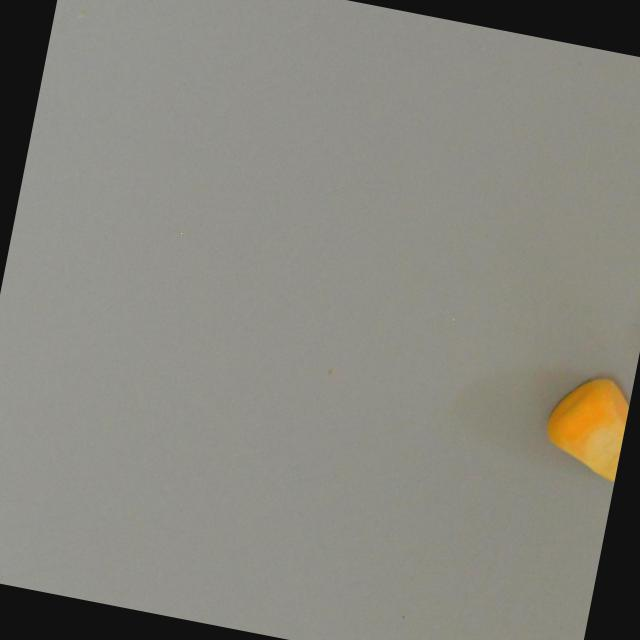entero: (529, 365, 634, 492)
